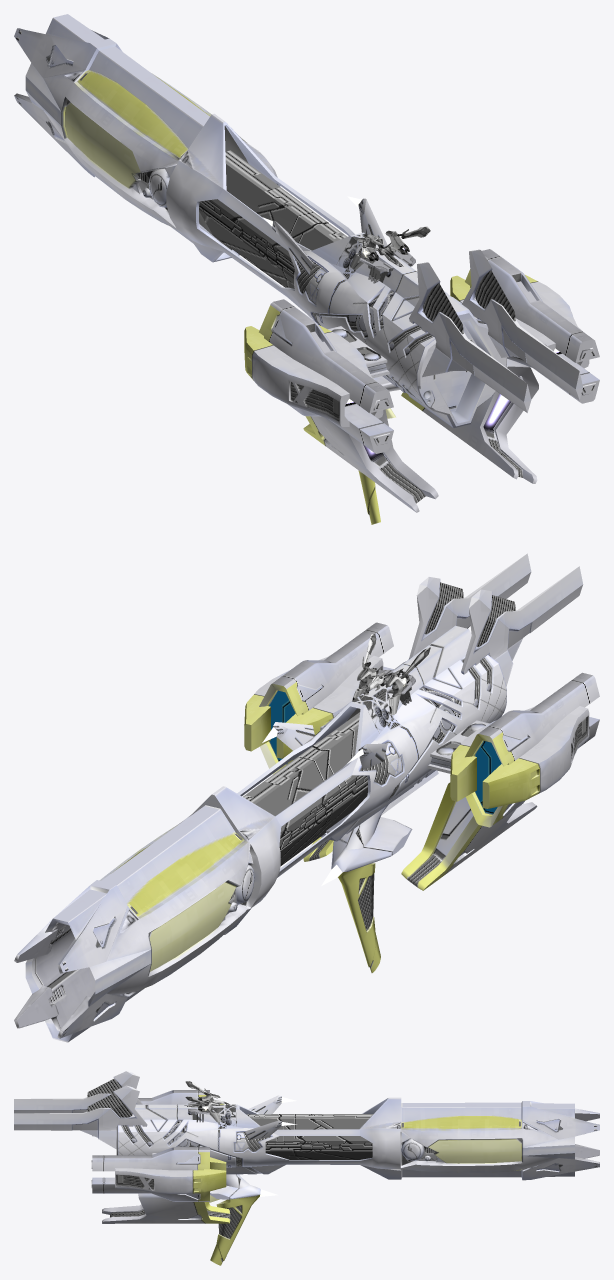
3 views of the same model, one above another, from view 1: azimuth 30°, elevation 25°; view 2: azimuth 150°, elevation 25°; view 3: azimuth 270°, elevation 25° (orthographic). The views are drawn at different scales.
Visible parts, largest first — view 1: body; view 2: body; view 3: body.
Boxes of the visible parts, x1,y1,x2,y2 form: body: [14, 14, 599, 524]; body: [14, 553, 599, 1042]; body: [14, 1071, 599, 1265].
Size of the model in its own units: 129 by 140 by 396.
3 materials, 3 textured.
